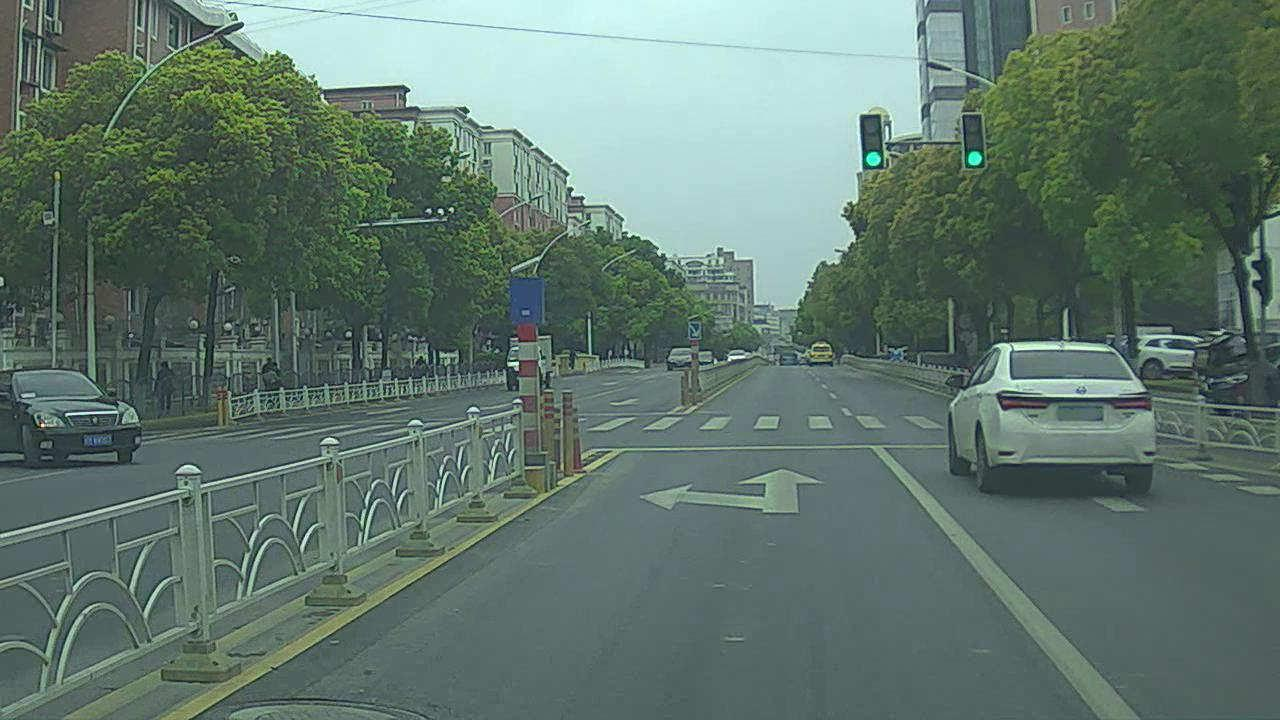traffic_light: (962, 112, 990, 174), (859, 113, 887, 168)
